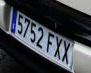2: (36, 26, 44, 49)
5: (30, 22, 36, 44), (18, 13, 23, 35)
7: (23, 17, 30, 39)
F: (46, 32, 55, 54)
X: (62, 40, 70, 66), (54, 36, 62, 60)
